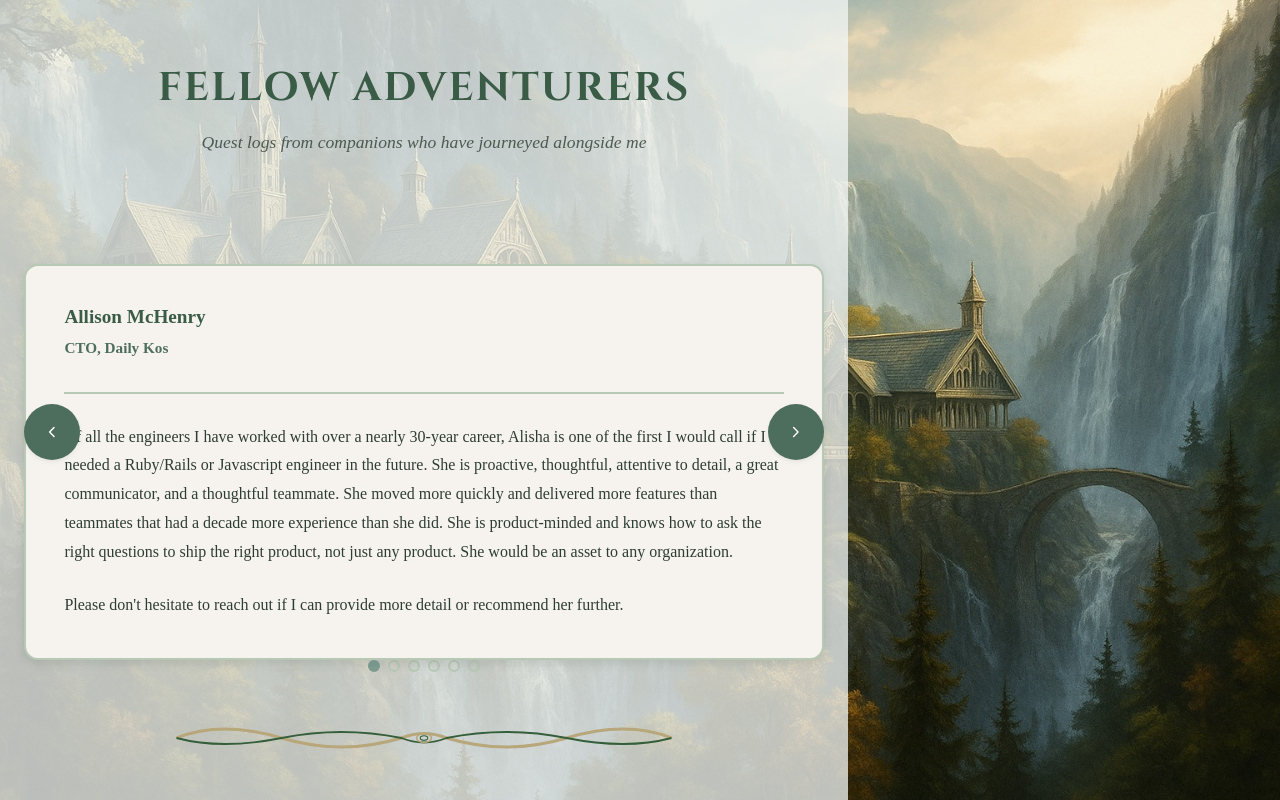
Recommendations Component › navigates using carousel dots
The width and height of the screenshot is (1280, 800).
Click the button named "Go to recommendation 3": (414, 666) [408,660,420,672]
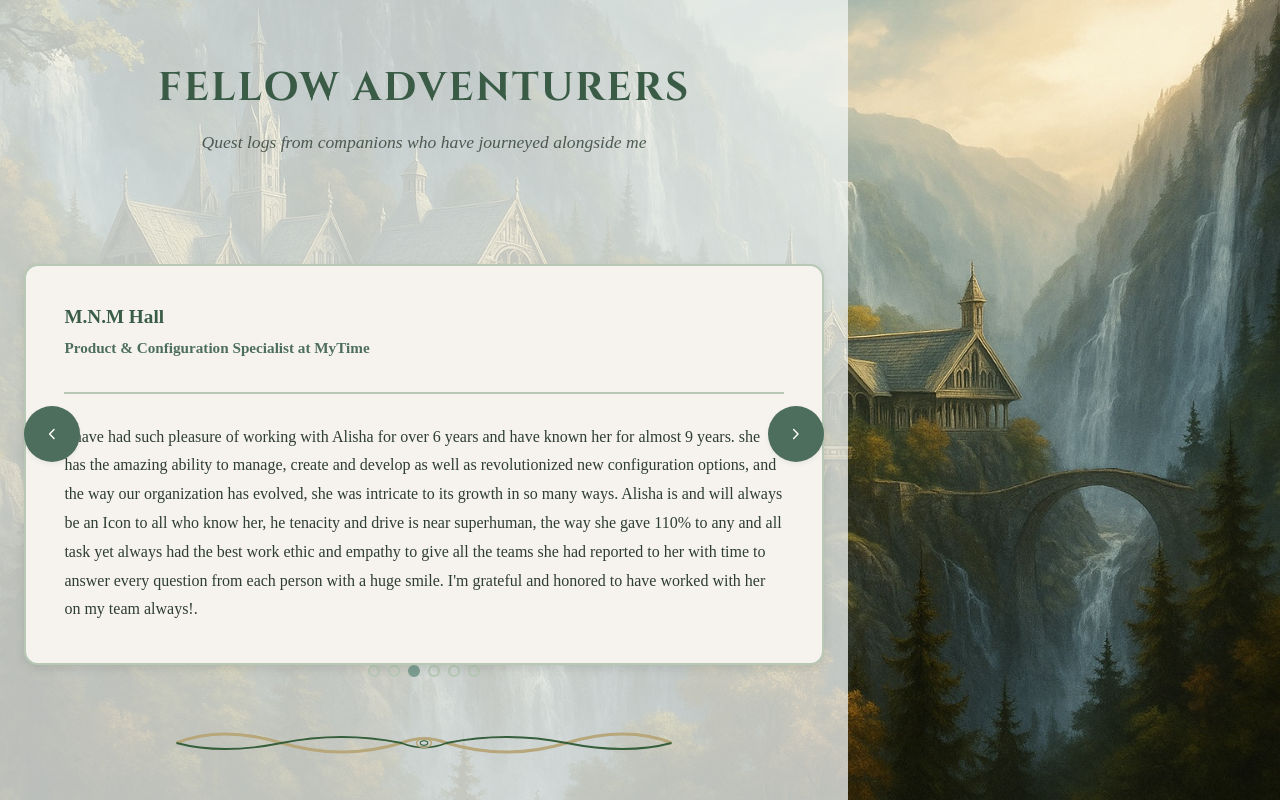
Result: the heading "M.N.M Hall" is shown at [64,306,164,326]
